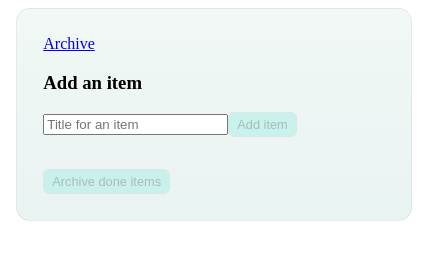
Scenario: App › when pressing archive link on todo page › should go to archive page
What coordinates should you click on to do the following:
click the link "Archive"
I would click on:
 (69, 44)
Its box is top-left (43, 35), bottom-right (95, 52).
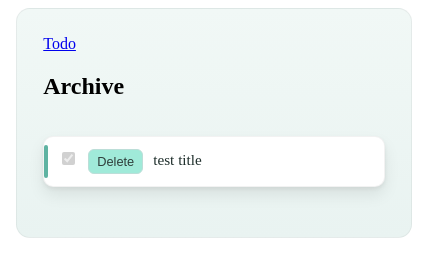
Expected: the text "test title" is shown, top-left (153, 151), bottom-right (202, 168)
